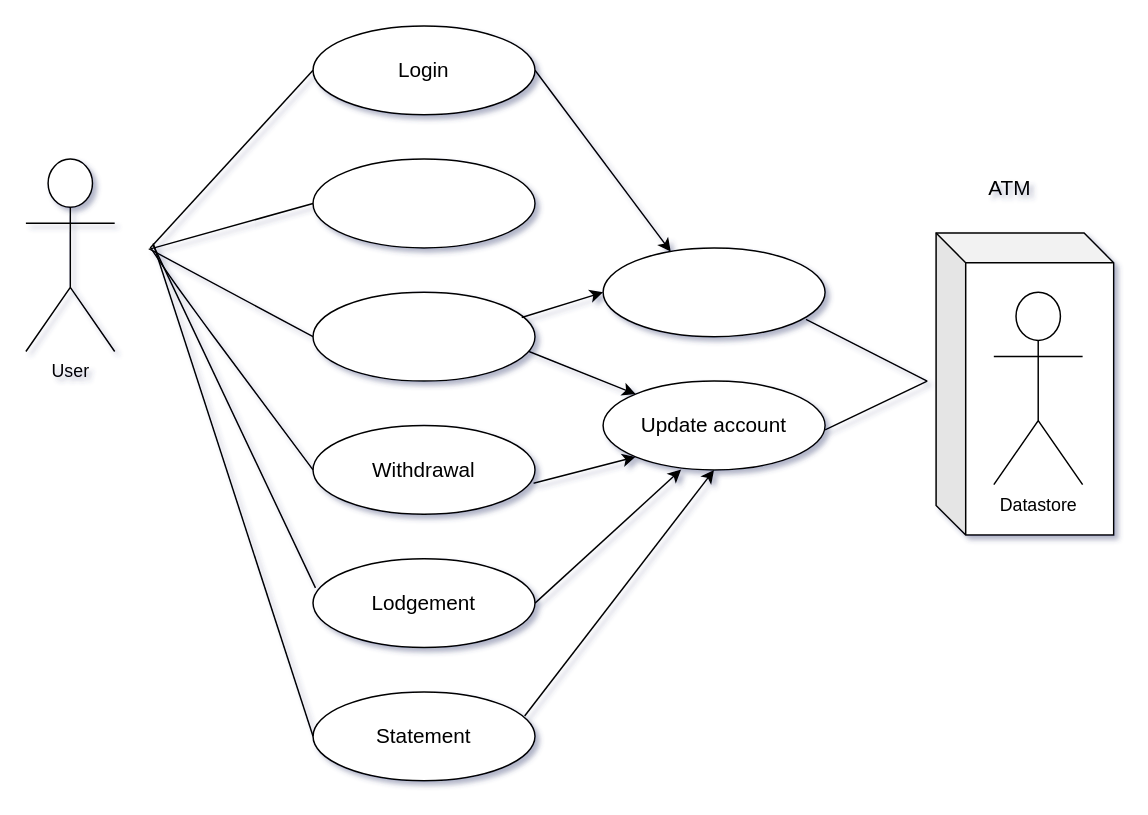
This 1148x815 diagram has some shape labels left out. The box of each missing label's shape, as (x1, y1, x2, y2) in pixels:
Change Pin: (312, 291, 535, 381)
Logout/ Exit: (312, 158, 535, 248)
Validate Account: (602, 246, 825, 337)
